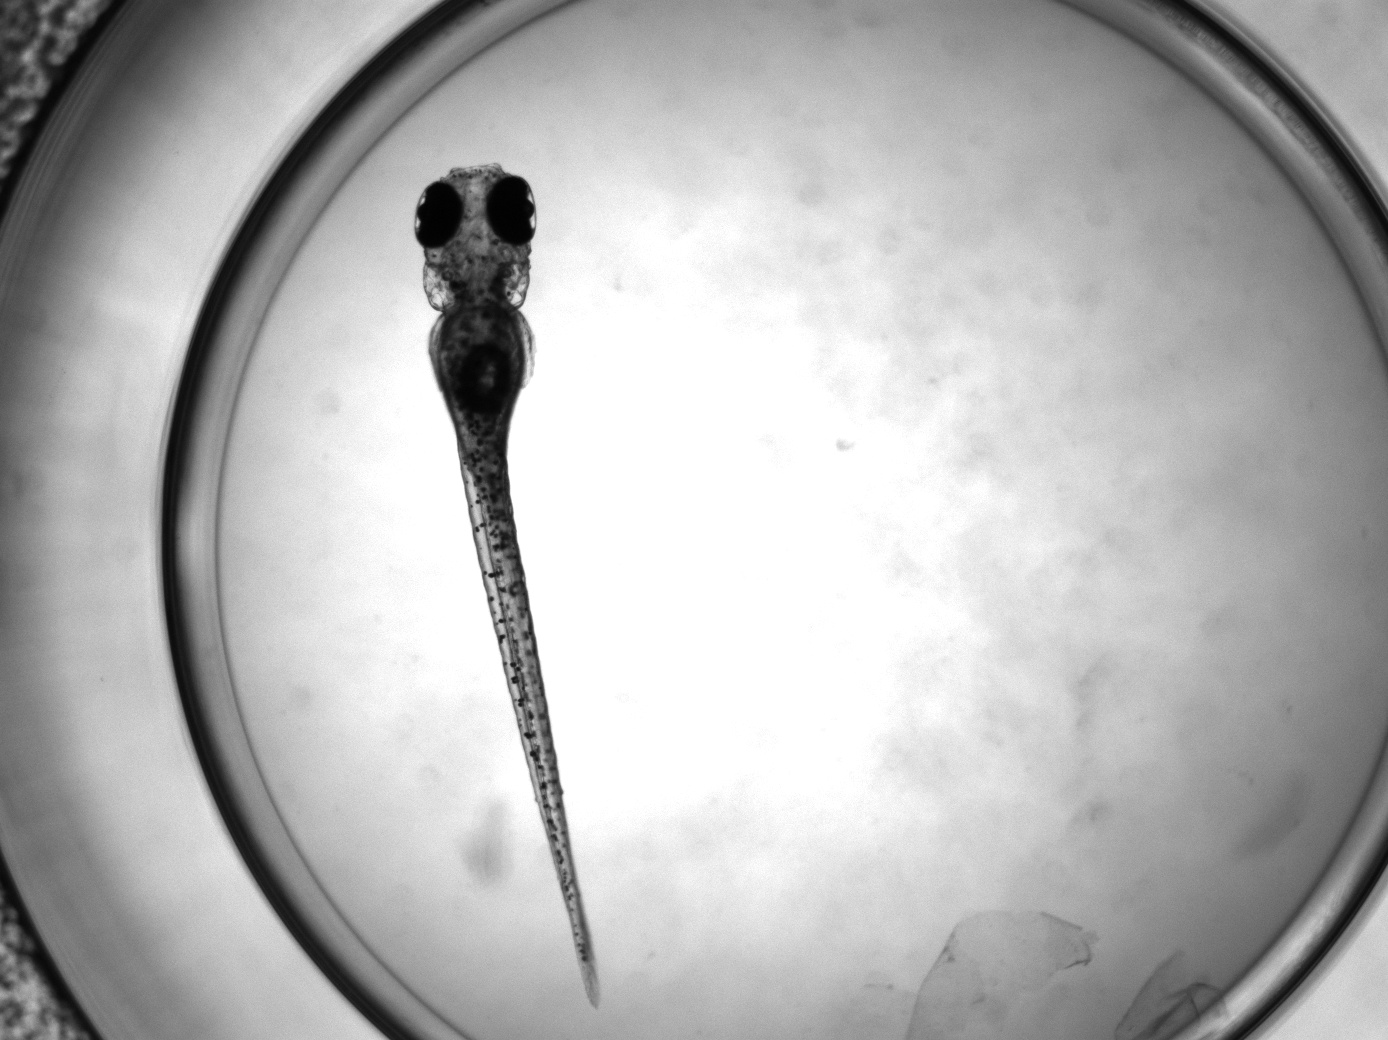debris: (907, 905, 1231, 1040)
embryo: (413, 163, 601, 1009)
eye: (485, 176, 537, 246), (413, 180, 463, 248)
yolksac: (430, 306, 530, 448)
